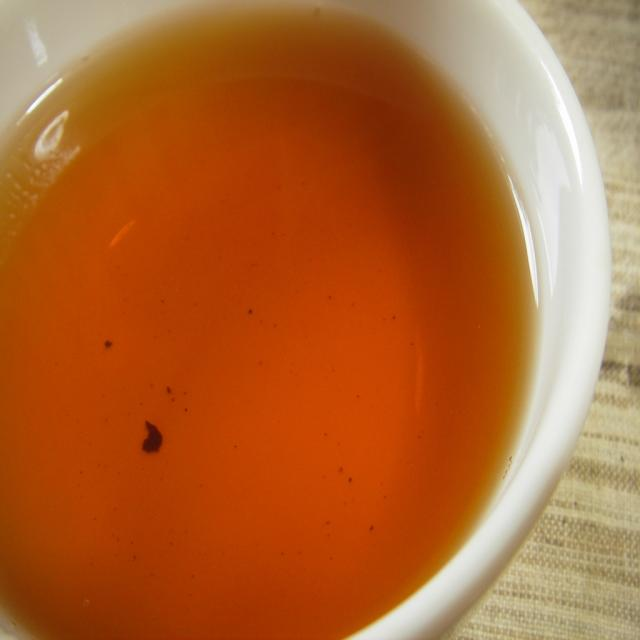Tea: (0, 3, 539, 639)
